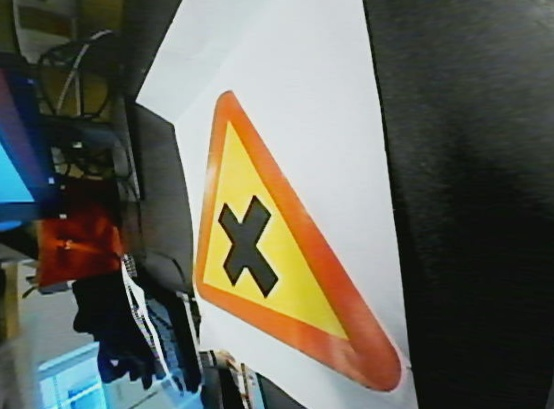junction: (179, 83, 408, 392)
